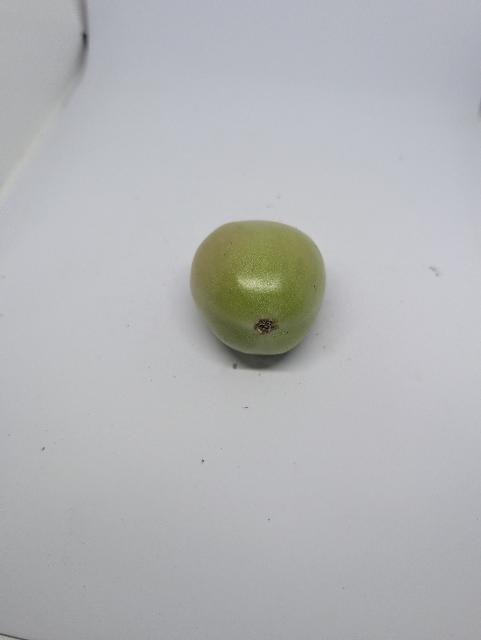green: (187, 217, 330, 358)
